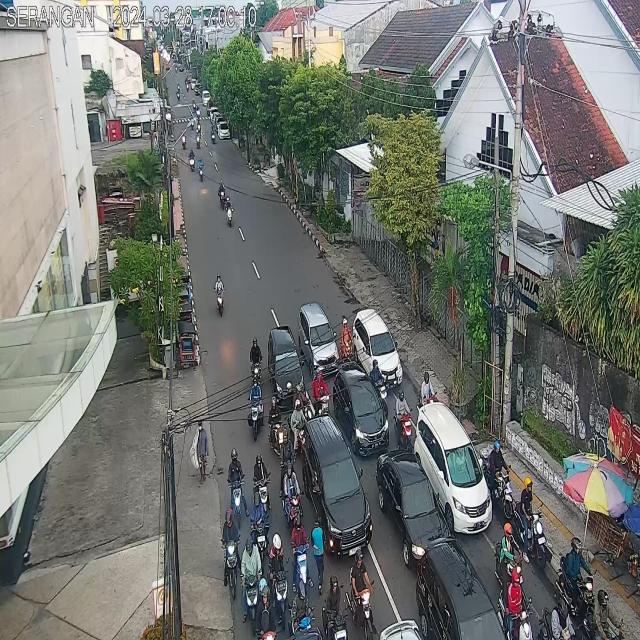car: (415, 400, 494, 537), (301, 415, 372, 559), (415, 537, 505, 640), (376, 449, 452, 570), (334, 362, 389, 456), (353, 309, 403, 384), (268, 327, 305, 413), (298, 303, 339, 377)
motorcycle: (556, 536, 597, 634), (512, 476, 546, 573), (345, 545, 377, 640), (479, 438, 514, 522), (497, 569, 534, 640), (240, 537, 263, 639), (494, 523, 524, 599), (581, 589, 624, 640), (289, 514, 313, 601), (269, 534, 290, 631), (221, 507, 242, 600), (227, 447, 250, 531), (322, 572, 348, 640), (282, 460, 304, 536), (288, 580, 313, 640), (256, 578, 280, 640), (250, 492, 270, 564), (542, 595, 574, 640), (392, 389, 414, 454), (252, 452, 272, 522), (279, 428, 296, 502), (247, 376, 265, 443), (268, 396, 286, 460), (287, 400, 306, 458), (311, 368, 332, 420), (370, 357, 388, 417), (416, 371, 438, 411), (249, 337, 264, 389), (339, 316, 354, 368), (213, 273, 226, 319), (225, 197, 234, 230), (218, 179, 226, 211), (188, 148, 196, 174), (198, 158, 205, 183)
